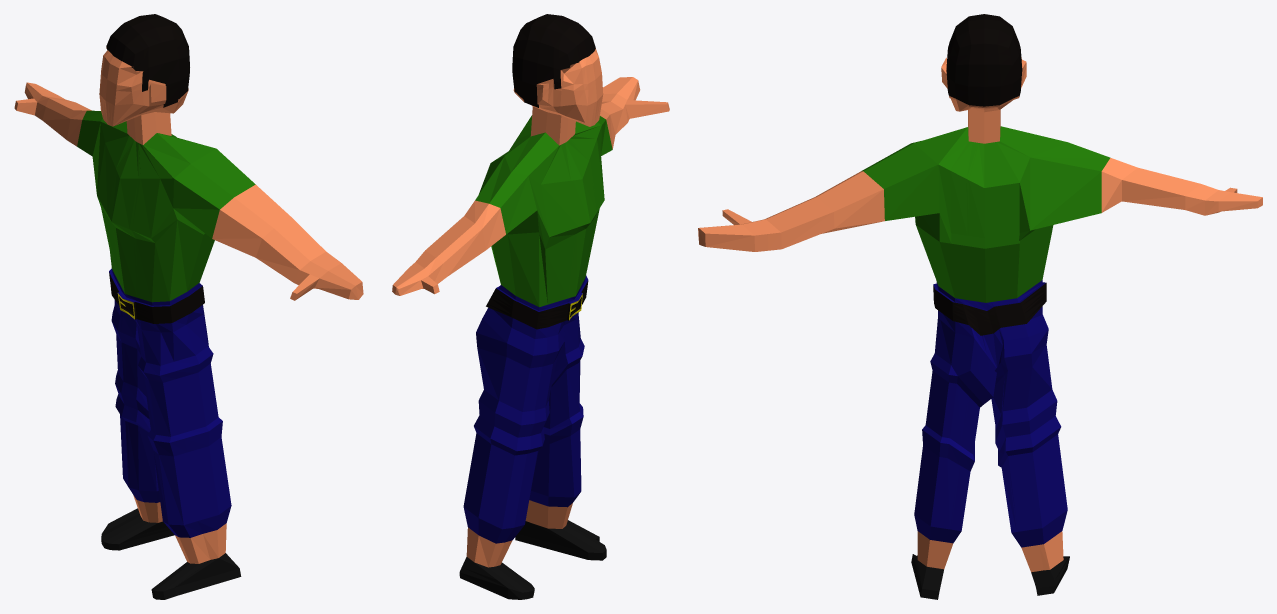
File: char.fbx
The picture shows the model from 3 angles, left to right: view 1: azimuth 30°, elevation 25°; view 2: azimuth 150°, elevation 25°; view 3: azimuth 270°, elevation 25°; orthographic projection.
Parts seen in each view (by area): view 1: mesh; view 2: mesh; view 3: mesh.
Boxes of the visible parts, x1,y1,x2,y2 form: mesh: (14,14,363,599); mesh: (392,14,669,599); mesh: (698,14,1262,599).
Bounding box in the file's own units: 471 × 2018 × 1869.
